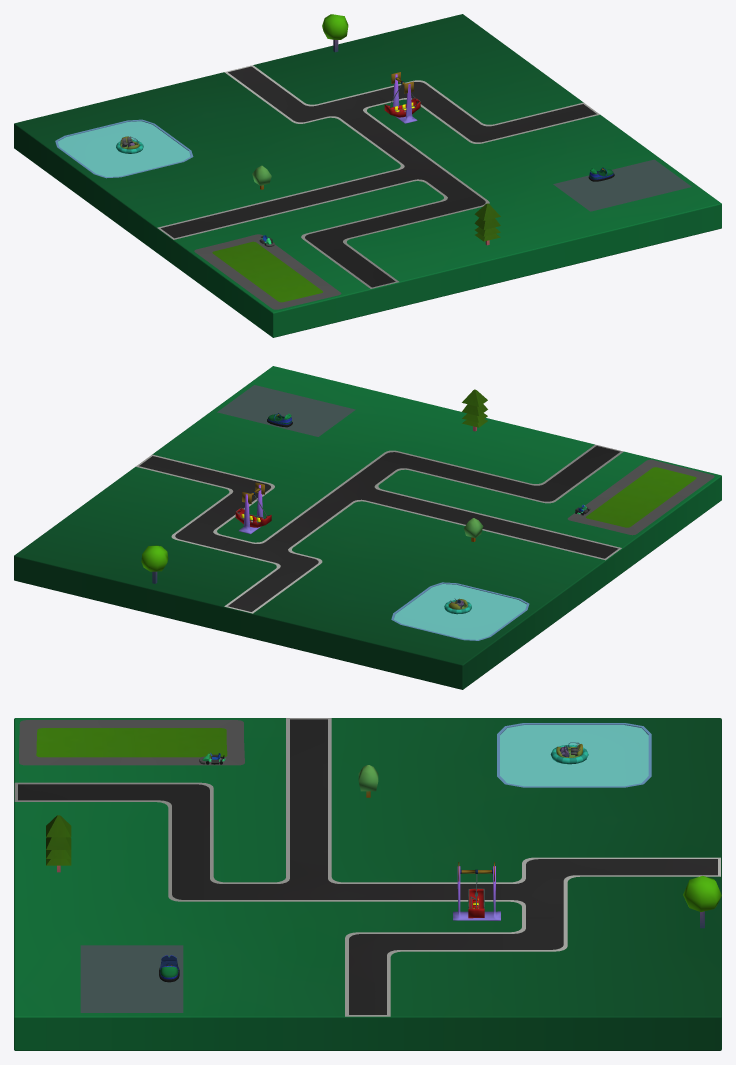
Rendered from AmusementPark.glb.
The picture shows the model from 3 angles, top to bottom: view 1: azimuth 30°, elevation 25°; view 2: azimuth 150°, elevation 25°; view 3: azimuth 270°, elevation 25°; orthographic projection. The views are drawn at different scales.
Visible parts, largest first — view 1: base, water, tree1, tree, piller; view 2: base, water, tree1, tree, piller; view 3: base, water, tree1, tree, piller, bumperboat, hangboat.
Boxes of the visible parts, bbox=[...] form: base: bbox=[14, 14, 721, 337]; water: bbox=[58, 121, 190, 176]; tree1: bbox=[474, 203, 500, 245]; tree: bbox=[322, 14, 348, 52]; piller: bbox=[391, 72, 417, 123]; base: bbox=[14, 366, 721, 689]; water: bbox=[394, 584, 526, 639]; tree1: bbox=[462, 389, 487, 431]; tree: bbox=[141, 545, 168, 583]; piller: bbox=[238, 482, 264, 534]; base: bbox=[14, 718, 721, 1050]; water: bbox=[500, 725, 648, 786]; tree1: bbox=[46, 815, 71, 872]; tree: bbox=[683, 876, 721, 928]; piller: bbox=[453, 862, 500, 920]; bumperboat: bbox=[550, 742, 588, 764]; hangboat: bbox=[468, 874, 484, 918].
Size of the model in its own units: 64 by 8.99 by 64.01.
Materials: 2 (2 with a texture image).
